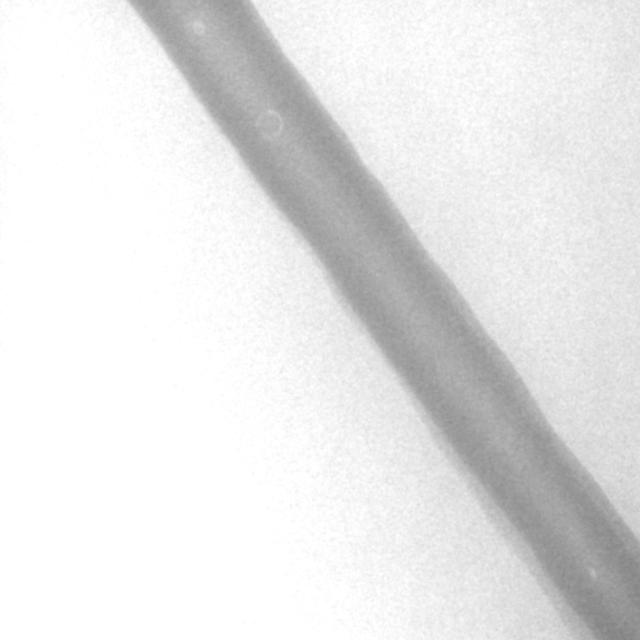air hole: (586, 564, 597, 580)
hollow bead: (253, 106, 283, 143)
